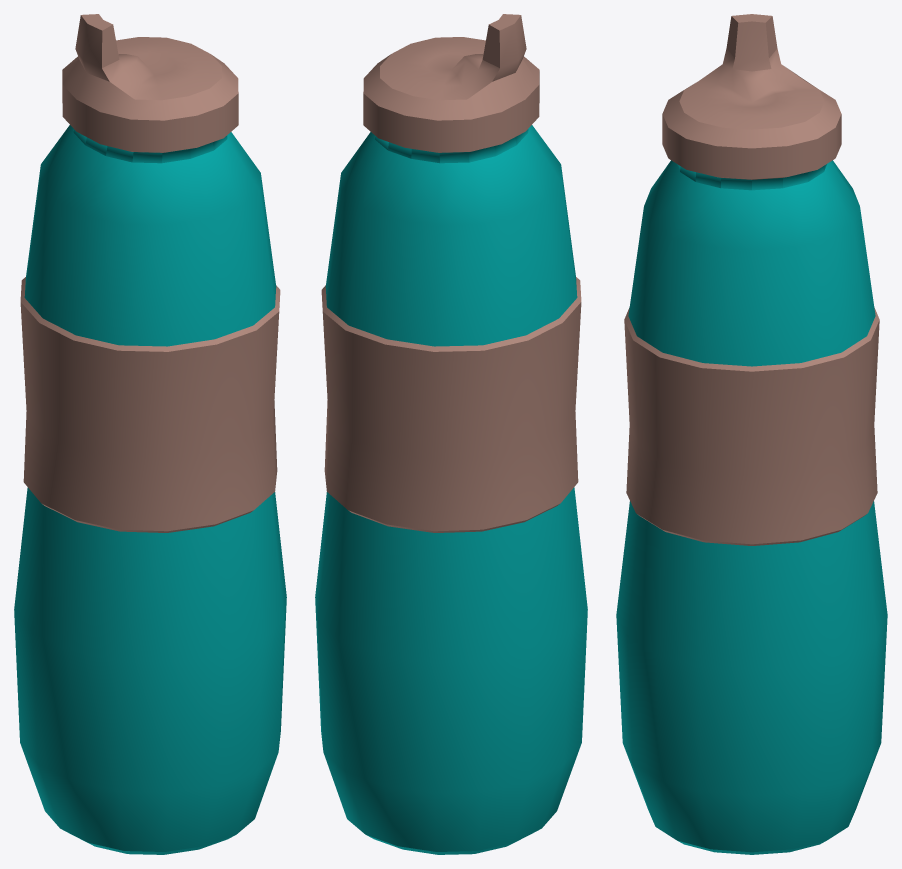
File: bottle_low.fbx
3 views of the same model, side by side, from view 1: azimuth 30°, elevation 25°; view 2: azimuth 150°, elevation 25°; view 3: azimuth 270°, elevation 25° (orthographic). The views are drawn at different scales.
Visible parts, largest first — view 1: bottle_low; view 2: bottle_low; view 3: bottle_low.
Part boxes in pixels (box(x1,y1,x2,y2)): bottle_low: box(14, 14, 286, 854); bottle_low: box(315, 14, 587, 854); bottle_low: box(616, 14, 887, 854).
Bounding box in the file's own units: 2.72 × 8.86 × 2.82.
